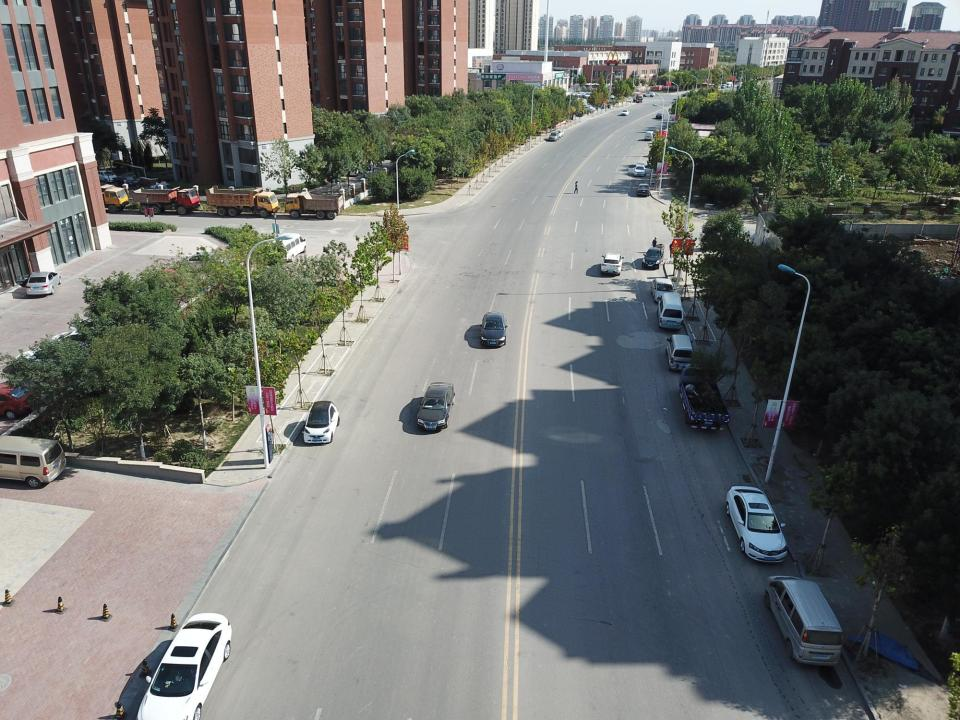car: (135, 612, 232, 720), (726, 486, 787, 563), (0, 436, 67, 488), (15, 347, 90, 377), (416, 382, 456, 431), (49, 329, 119, 357), (70, 316, 138, 342), (0, 384, 39, 420), (136, 268, 194, 289), (15, 271, 61, 295), (479, 311, 508, 346), (650, 278, 676, 303), (149, 182, 182, 197), (642, 247, 664, 269), (114, 174, 140, 188), (628, 162, 652, 176), (94, 170, 118, 183), (636, 183, 650, 196), (577, 105, 595, 111), (553, 130, 564, 138), (578, 106, 592, 112), (681, 92, 694, 98), (621, 109, 629, 116), (656, 112, 664, 119), (584, 94, 595, 98)
truck: (206, 185, 280, 216), (66, 183, 129, 213), (132, 187, 200, 214), (283, 192, 343, 219), (632, 92, 644, 102)
van: (765, 575, 843, 668), (302, 401, 339, 443), (174, 252, 230, 274), (266, 233, 306, 262), (664, 334, 694, 371), (656, 293, 684, 331), (600, 253, 624, 275), (548, 131, 558, 141), (644, 131, 654, 141), (575, 92, 585, 98), (582, 93, 592, 99), (643, 92, 654, 97), (578, 93, 588, 98), (725, 82, 733, 88), (736, 82, 743, 87), (672, 98, 678, 103), (720, 84, 726, 88)
